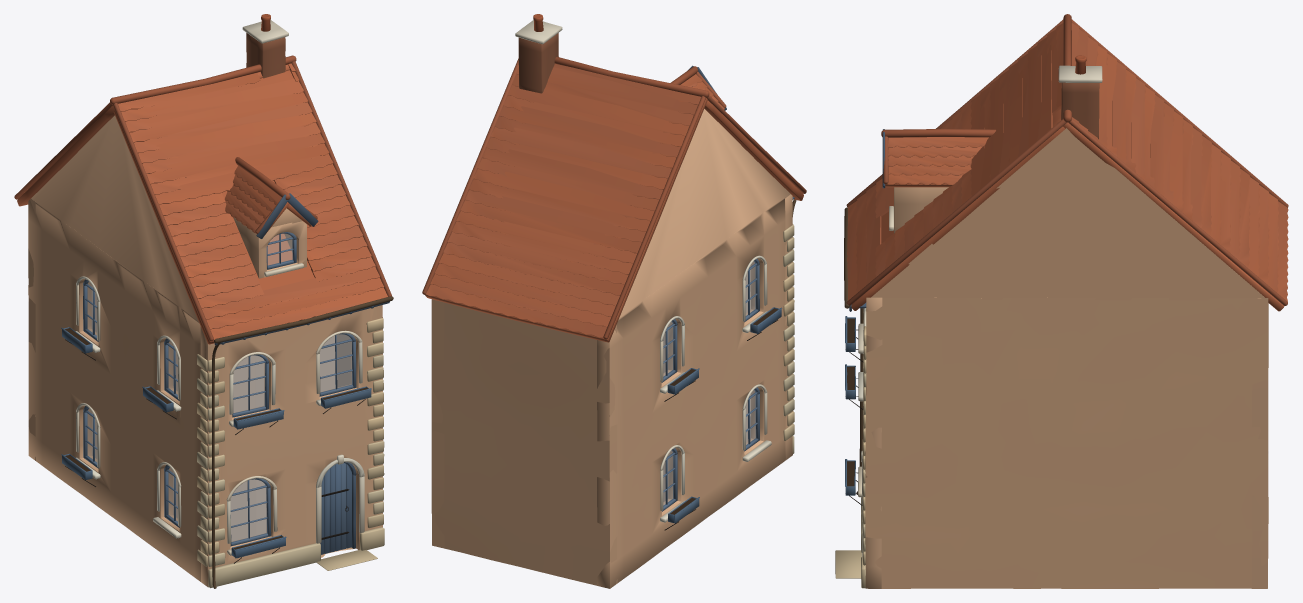
File: GateStreet_BehindOuter5.glb
3 renders of one model, left to right at view 1: azimuth 30°, elevation 25°; view 2: azimuth 150°, elevation 25°; view 3: azimuth 270°, elevation 25°, orthographic. The views are drawn at different scales.
Parts seen in each view (by area): view 1: Sammel Putz, Sammel Stein, Sammel Lack, Glas, Sammel Putz innen, Sammel Metall, Sammel Ziegel; view 2: Sammel Putz, Sammel Stein, Sammel Lack, Sammel Ziegel, Glas, Sammel Putz innen; view 3: Sammel Putz, Sammel Stein, Sammel Ziegel, Sammel Lack, Sammel Metall.
Part boxes in pixels (x1=…): Sammel Putz: x1=28, y1=14, x2=383, y2=587; Sammel Stein: x1=14, y1=55, x2=391, y2=588; Sammel Lack: x1=61, y1=193, x2=389, y2=558; Glas: x1=87, y1=234, x2=351, y2=541; Sammel Putz innen: x1=91, y1=286, x2=351, y2=540; Sammel Metall: x1=65, y1=296, x2=393, y2=588; Sammel Ziegel: x1=246, y1=33, x2=285, y2=78; Sammel Putz: x1=431, y1=14, x2=792, y2=588; Sammel Stein: x1=422, y1=57, x2=806, y2=453; Sammel Lack: x1=661, y1=65, x2=794, y2=523; Sammel Ziegel: x1=518, y1=33, x2=558, y2=93; Glas: x1=663, y1=261, x2=755, y2=505; Sammel Putz innen: x1=663, y1=266, x2=750, y2=501; Sammel Putz: x1=847, y1=55, x2=1268, y2=588; Sammel Stein: x1=835, y1=14, x2=1288, y2=588; Sammel Ziegel: x1=1061, y1=82, x2=1099, y2=139; Sammel Lack: x1=845, y1=129, x2=885, y2=495; Sammel Metall: x1=844, y1=207, x2=863, y2=505.
Size of the model in its own units: 4.99 by 11.41 by 9.01.
